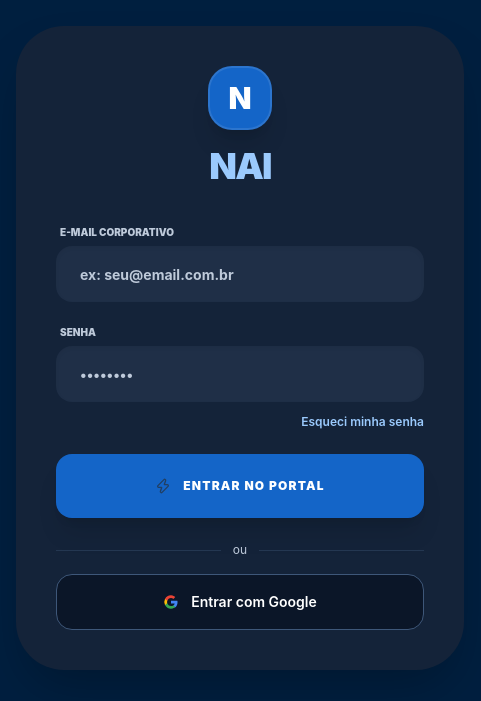
Scenario: password recovery › does not send a request for an invalid email:
This screenshot has width=481, height=701.
Click the button "Esqueci minha senha" at point(363, 422), box [301, 414, 424, 430]
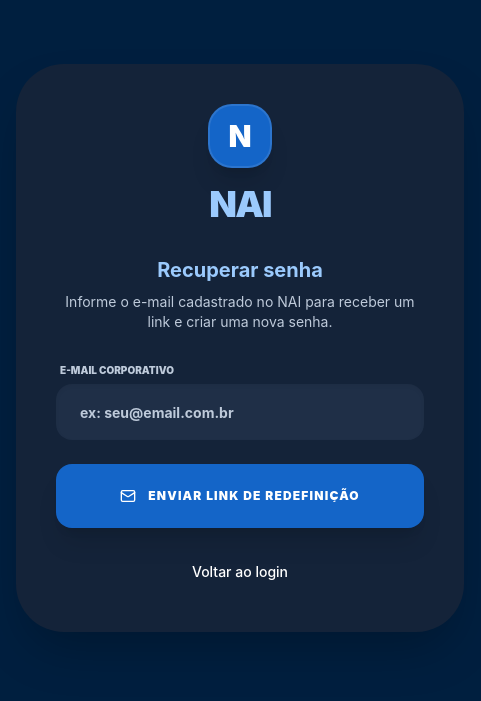
Submit the form, box [56, 256, 424, 592]
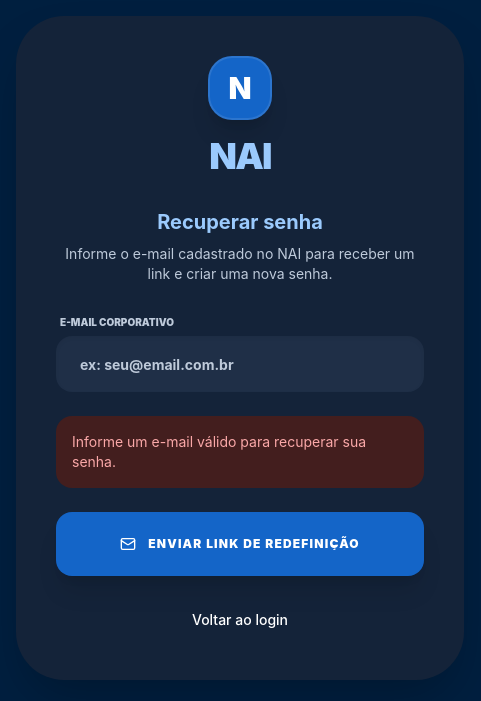
Expected: the message "Informe um e-mail válido para recuperar sua senha." is shown, [56, 416, 424, 488]
